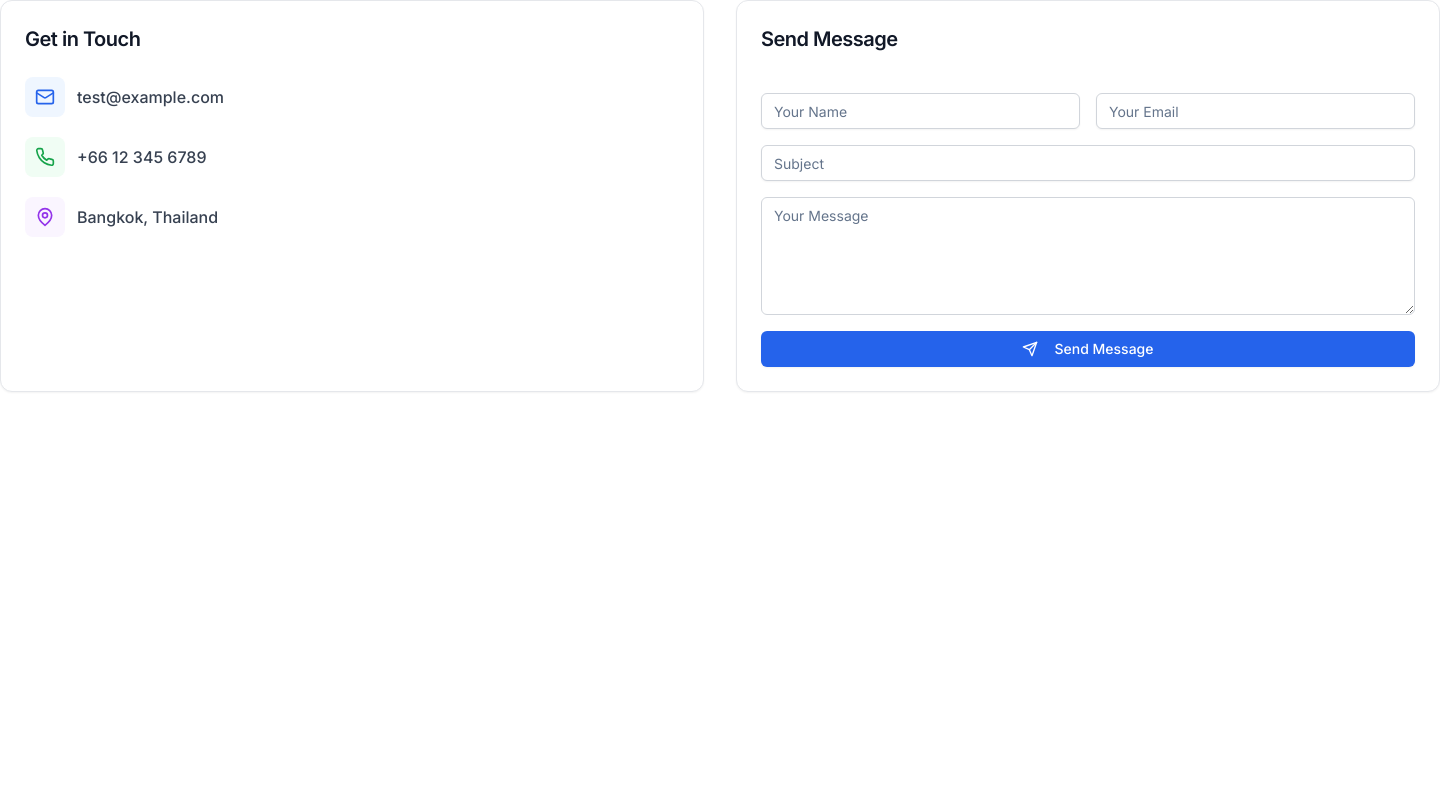
Test case: ContactFormWidget › handles submit failure gracefully
The width and height of the screenshot is (1440, 810).
Step 1. Type "John Doe" into the field with placeholder "Your Name" → (920, 111), box [761,93,1080,129]
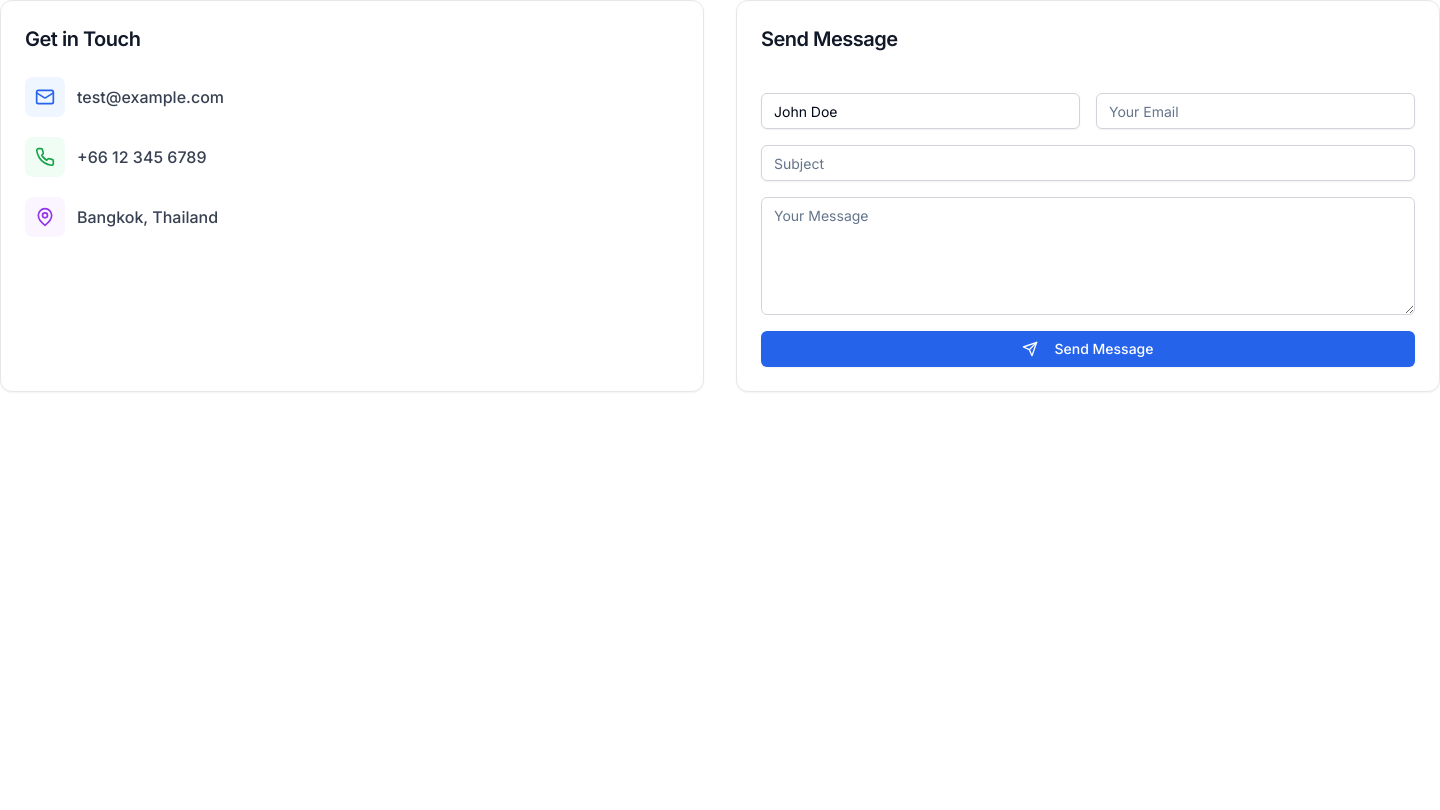
Step 2. Type "john@example.com" into the field with placeholder "Your Email" → (1256, 111), box [1096,93,1415,129]
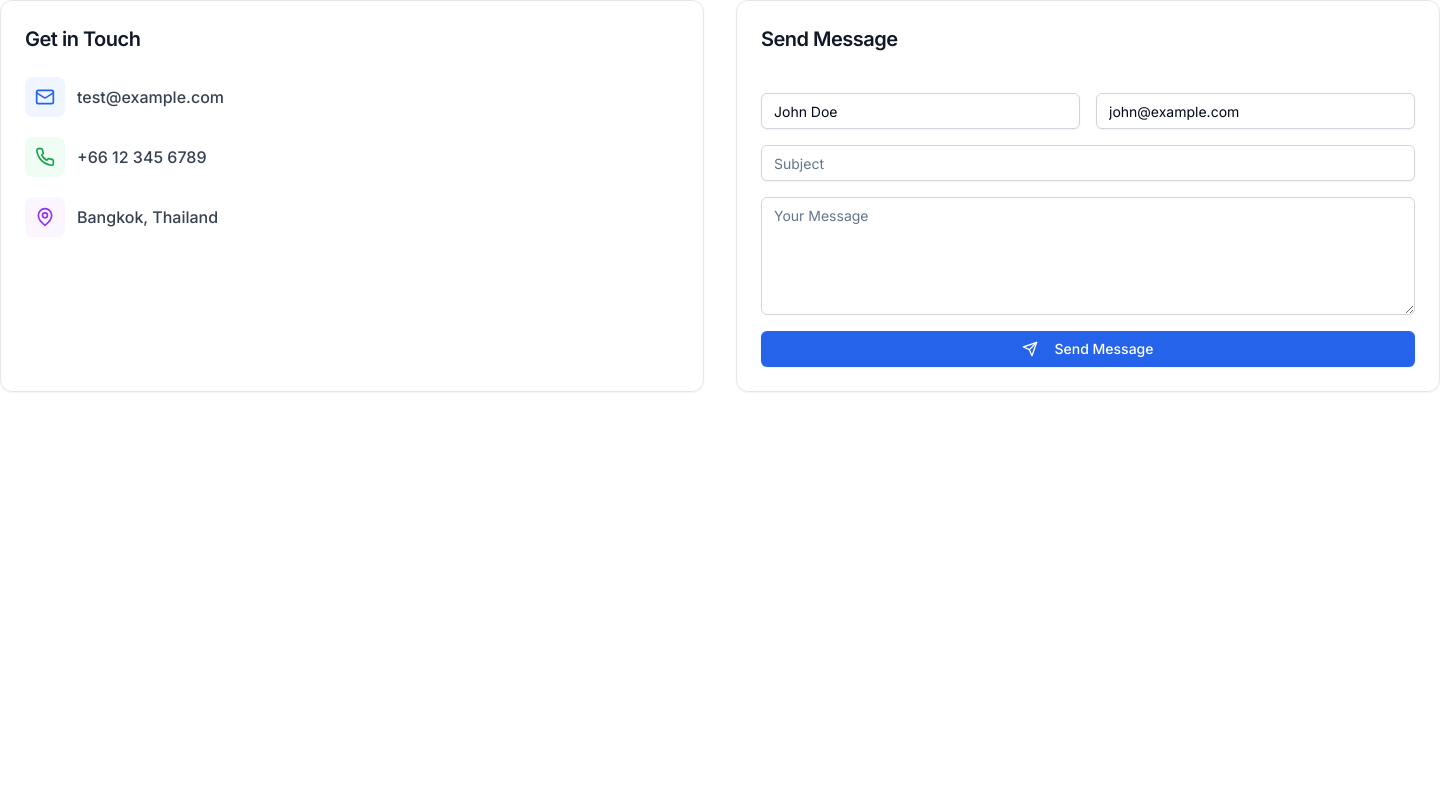
Step 3. Type "Inquiry" into the field with placeholder "Subject" → (1088, 163), box [761,145,1415,181]
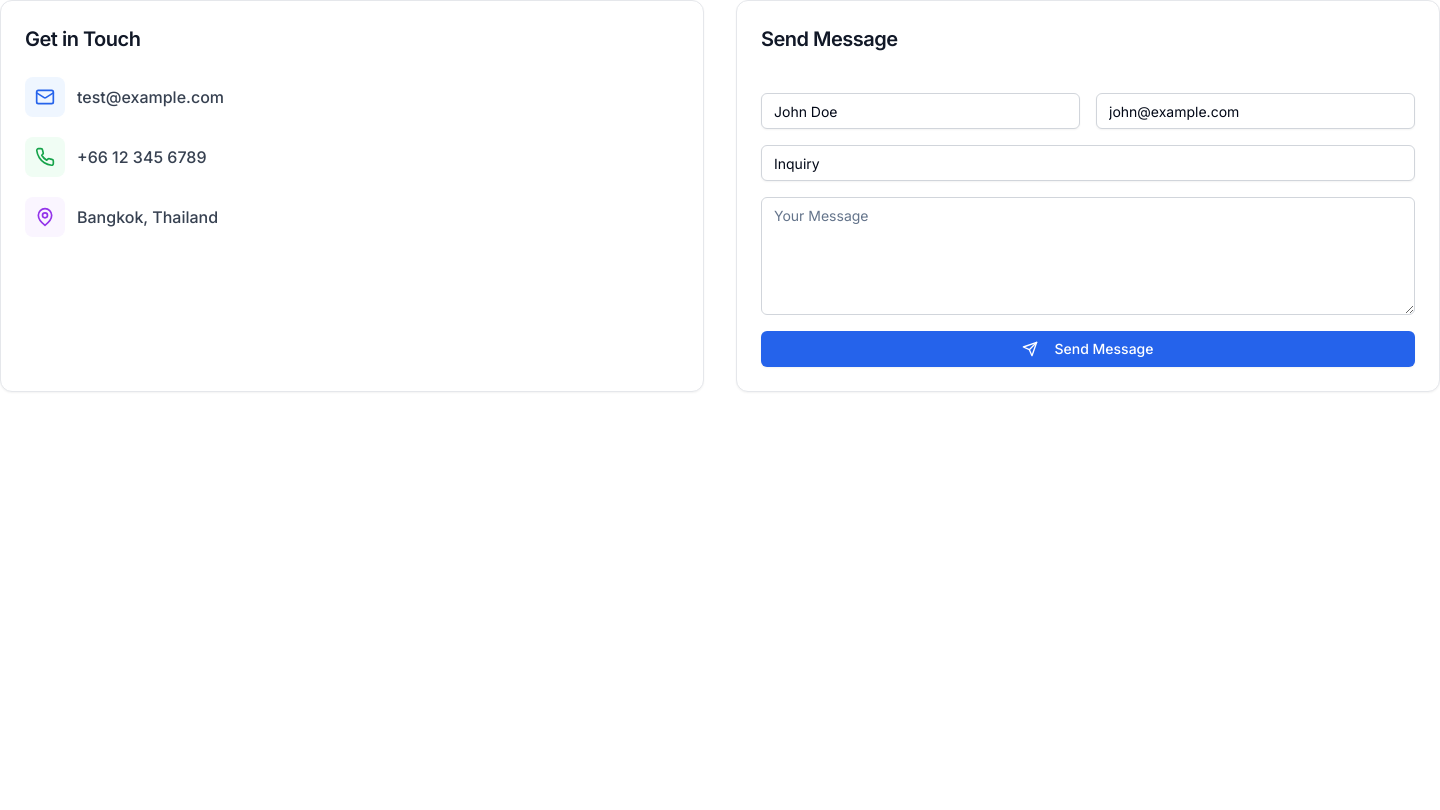
Step 4. Type "Hello" into the text box with placeholder "Your Message" → (1088, 256), box [761,197,1415,315]
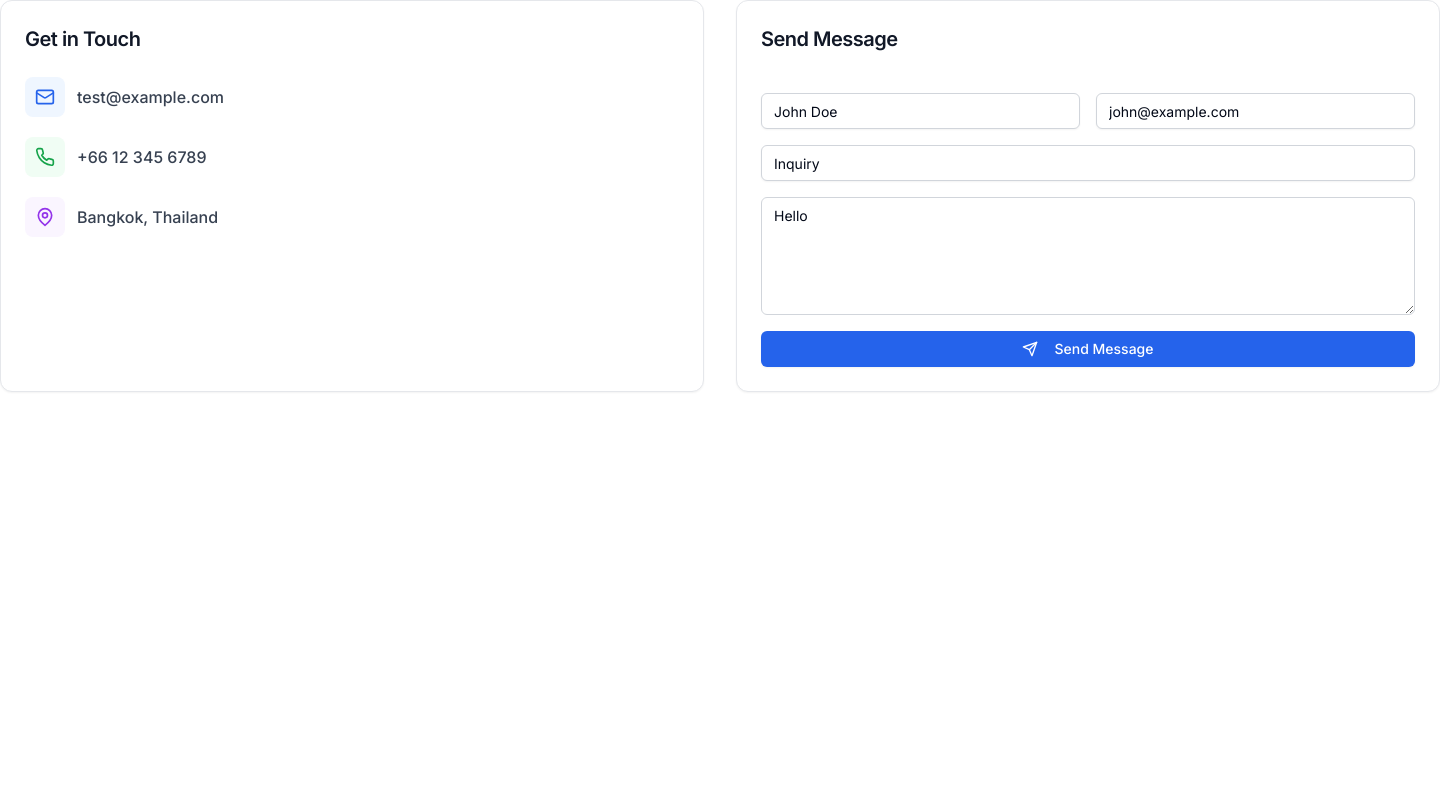
Step 5. Click the button "Send Message" → (1088, 349), box [761,331,1415,367]
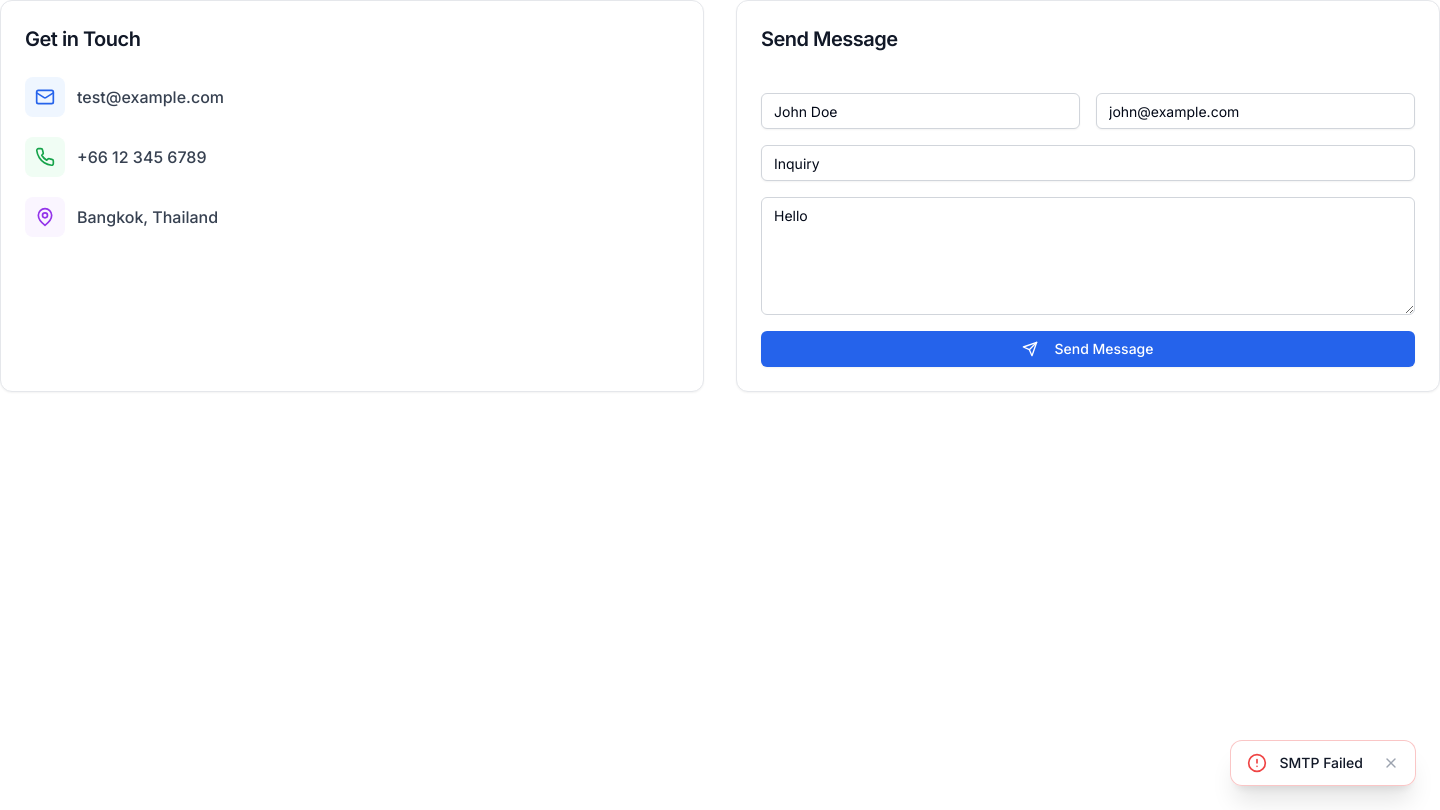
Expected: the message "SMTP Failed" is shown, [1230,740,1416,786]
Expected: the text "SMTP Failed" is shown, [1280,753,1363,773]
